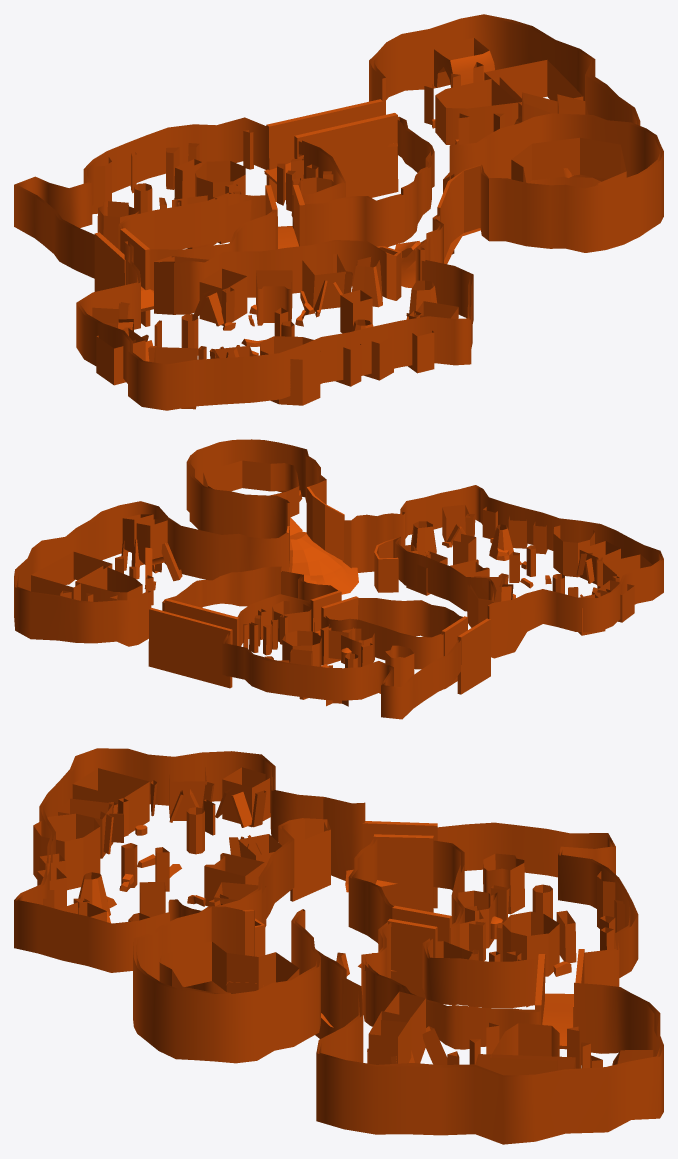
The model's file is collider.glb.
The picture shows the model from 3 angles, top to bottom: view 1: azimuth 30°, elevation 25°; view 2: azimuth 150°, elevation 25°; view 3: azimuth 270°, elevation 25°; orthographic projection. The views are drawn at different scales.
Visible parts, largest first — view 1: nurbsToPoly29, nurbsToPoly30, nurbsToPoly22, nurbsToPoly25, nurbsToPoly26, nurbsToPoly23, pCube10, pCylinder98, pCylinder100, pCube9, nurbsToPoly24, pCylinder101 (+26 smaller); view 2: nurbsToPoly29, nurbsToPoly25, nurbsToPoly30, nurbsToPoly22, pCube9, nurbsToPoly26, nurbsToPoly23, nurbsToPoly24, pCylinder98, nurbsToPoly28, polySurface7, pCylinder101 (+24 smaller); view 3: nurbsToPoly25, nurbsToPoly29, nurbsToPoly30, nurbsToPoly22, nurbsToPoly23, pCylinder98, nurbsToPoly24, nurbsToPoly26, pCube13, pCylinder87, pCylinder100, pCylinder92 (+26 smaller).
Part boxes in pixels (bbox=[...]): nurbsToPoly29: bbox=[76, 240, 473, 410]; nurbsToPoly30: bbox=[437, 113, 663, 259]; nurbsToPoly22: bbox=[14, 117, 266, 278]; nurbsToPoly25: bbox=[369, 14, 640, 254]; nurbsToPoly26: bbox=[149, 194, 404, 290]; nurbsToPoly23: bbox=[118, 140, 345, 250]; pCube10: bbox=[294, 113, 398, 197]; pCylinder98: bbox=[511, 137, 626, 185]; pCylinder100: bbox=[435, 77, 521, 144]; pCube9: bbox=[266, 99, 383, 201]; nurbsToPoly24: bbox=[397, 116, 434, 242]; pCylinder101: bbox=[484, 60, 583, 117]; nurbsToPoly29: bbox=[374, 485, 663, 658]; nurbsToPoly25: bbox=[14, 501, 289, 646]; nurbsToPoly30: bbox=[186, 439, 344, 561]; nurbsToPoly22: bbox=[222, 633, 460, 719]; pCube9: bbox=[148, 608, 232, 688]; nurbsToPoly26: bbox=[281, 571, 462, 637]; nurbsToPoly23: bbox=[237, 594, 443, 669]; nurbsToPoly24: bbox=[162, 566, 281, 610]; pCylinder98: bbox=[203, 460, 299, 517]; nurbsToPoly28: bbox=[342, 511, 405, 572]; polySurface7: bbox=[288, 531, 358, 594]; pCylinder101: bbox=[31, 551, 112, 600]; nurbsToPoly25: bbox=[315, 949, 663, 1144]; nurbsToPoly29: bbox=[14, 748, 365, 972]; nurbsToPoly30: bbox=[133, 906, 320, 1063]; nurbsToPoly22: bbox=[437, 822, 638, 986]; nurbsToPoly23: bbox=[422, 840, 538, 1007]; pCylinder98: bbox=[159, 941, 299, 993]; nurbsToPoly24: bbox=[364, 963, 540, 1049]; nurbsToPoly26: bbox=[348, 838, 393, 1021]; pCube13: bbox=[373, 834, 433, 912]; pCylinder87: bbox=[33, 813, 100, 890]; pCylinder100: bbox=[490, 1023, 559, 1075]; pCylinder92: bbox=[72, 768, 149, 836].
Bounding box in the file's own units: 5343 × 1108 × 4372.
